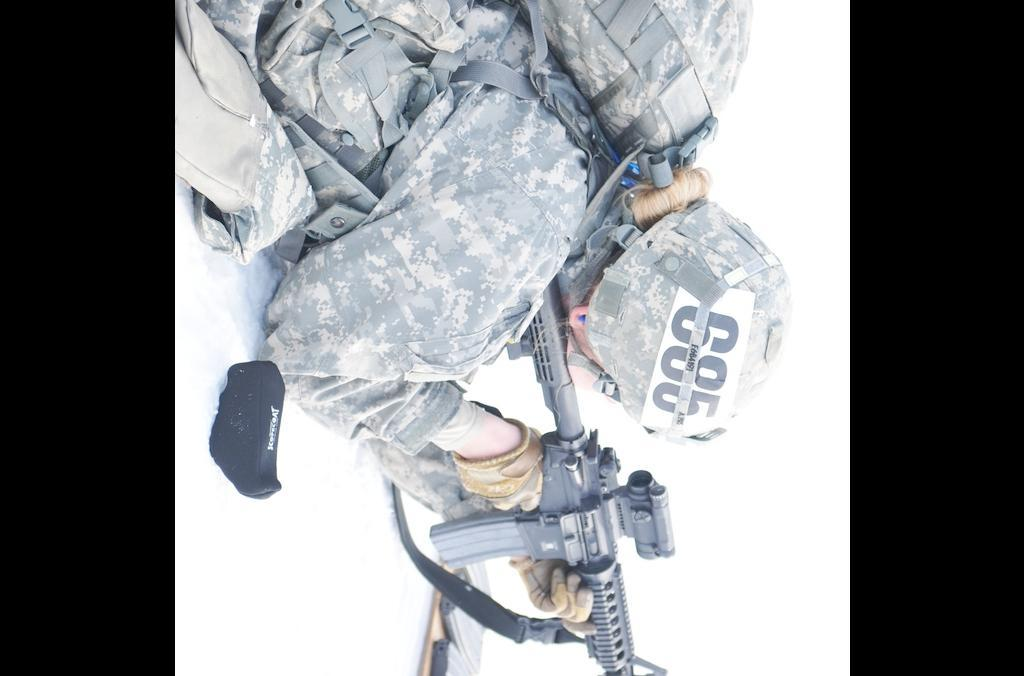gun: (428, 278, 674, 676)
